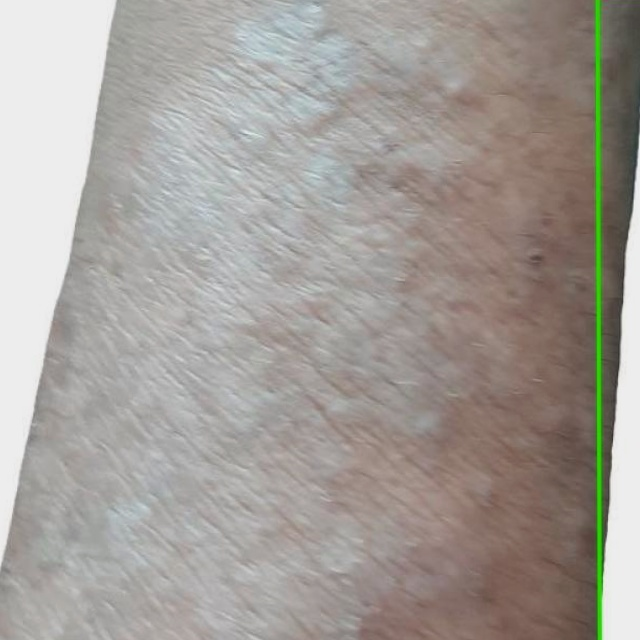Tinea Corporis: (597, 0, 639, 639)
